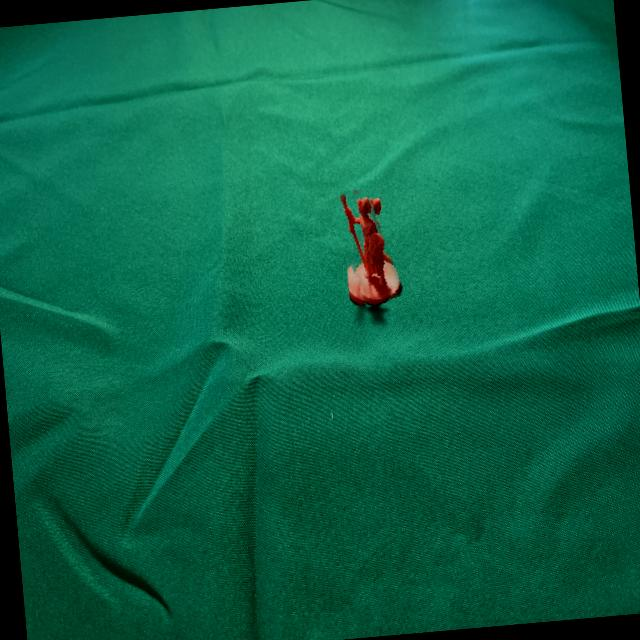amon_follower: (338, 190, 401, 305)
